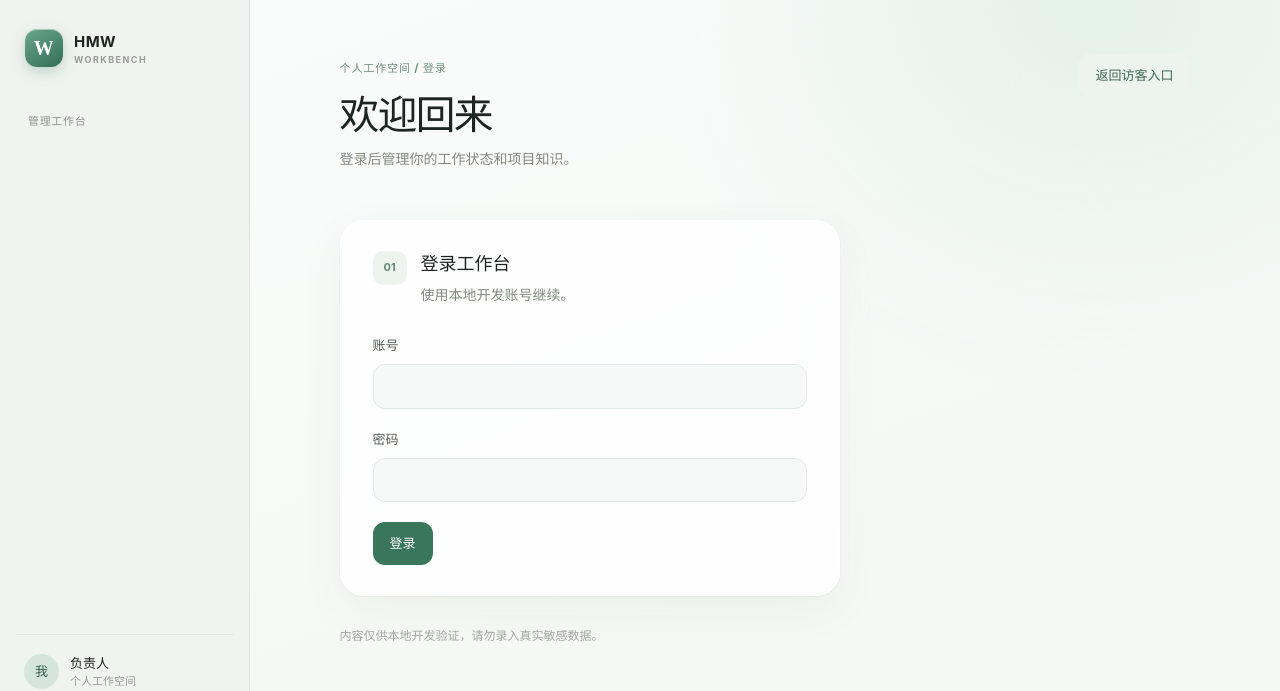
it: preserves sharing and allocations when editing a saved status
This screenshot has width=1280, height=691.
Step 1. Type "owner" into the field labelled "账号" → (590, 386), box [373,364,807,409]
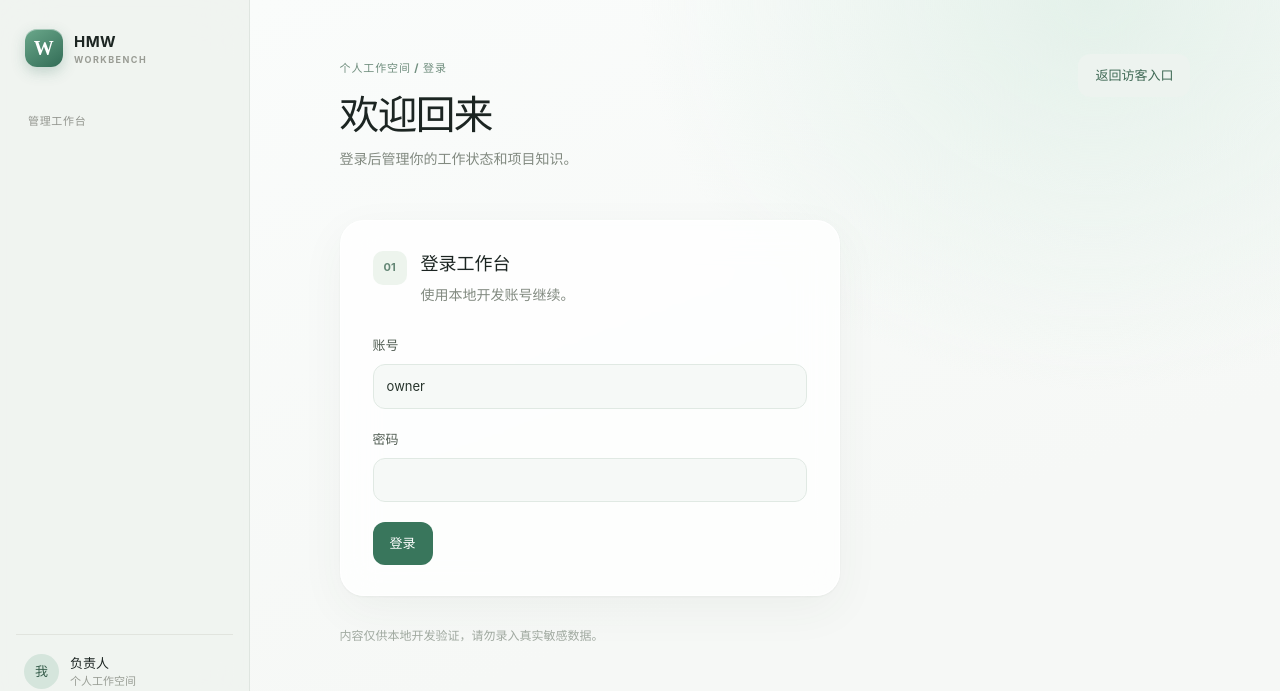
Step 2. Type "password" into the password field labelled "密码" → (590, 480), box [373,458,807,502]
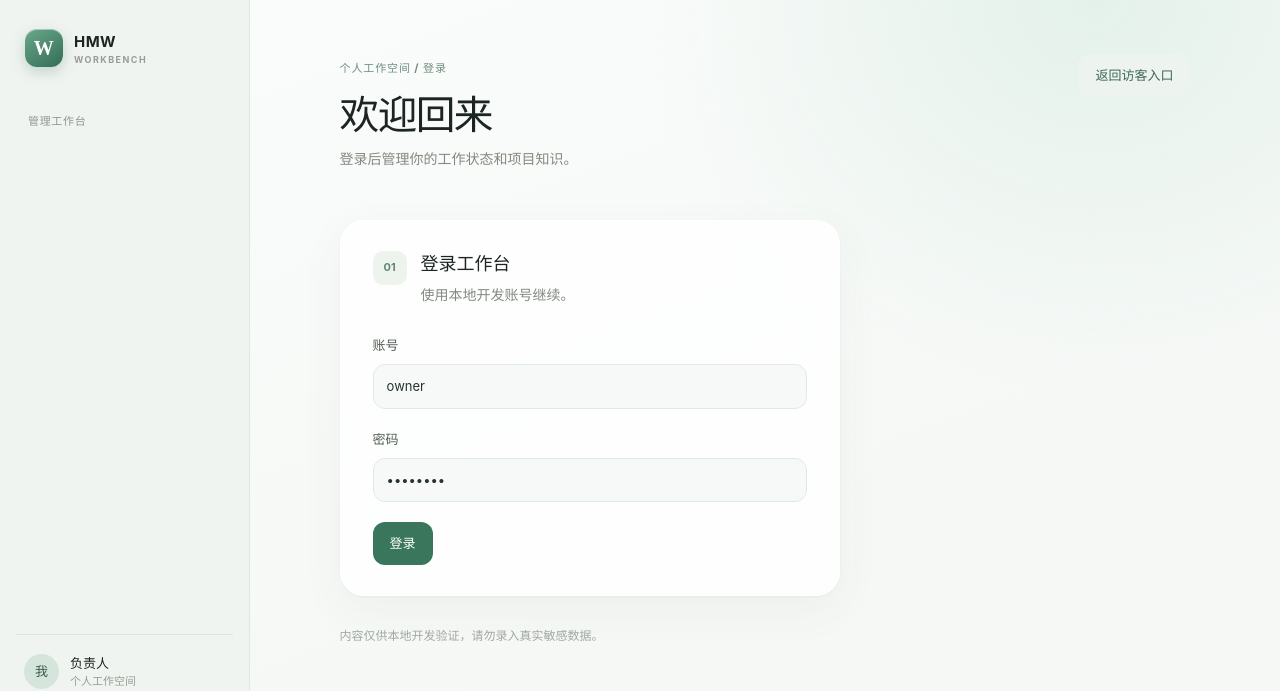
Step 3. Click the button "登录" → click(403, 544), box [373,522,433,565]
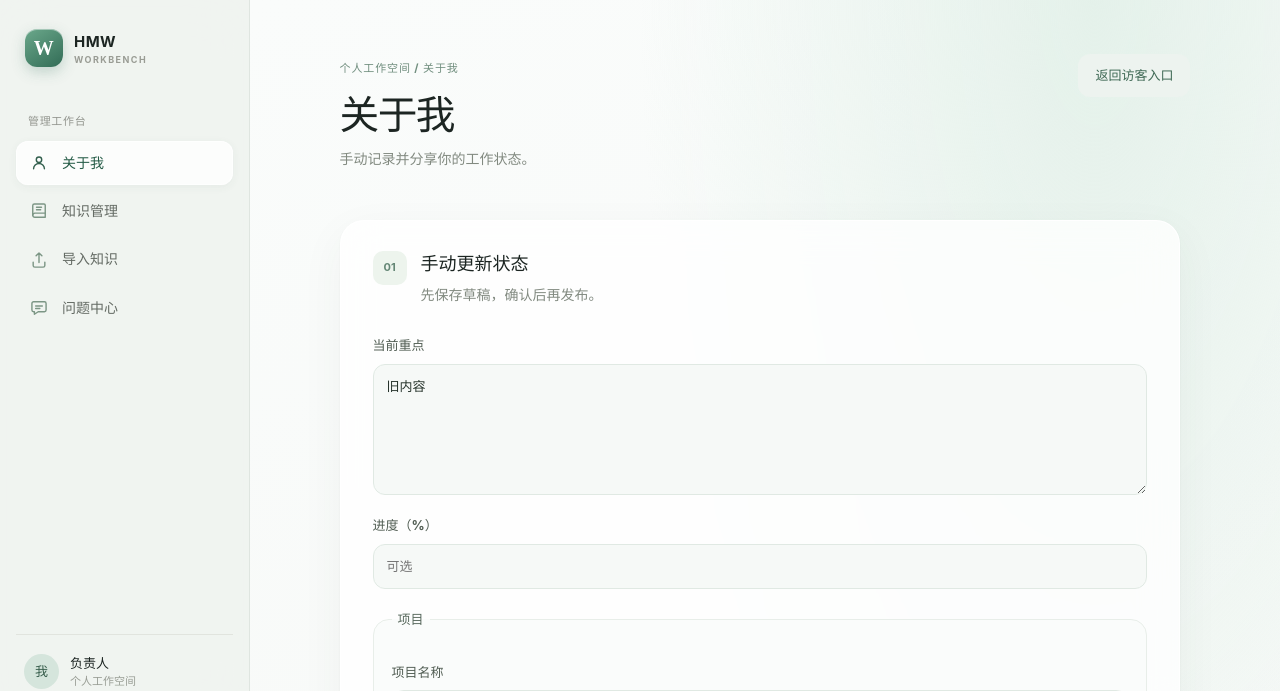
Expected: the text box labelled "当前重点" is shown
Step 4. Replace the text in the text box labelled "当前重点" with "新内容" → (760, 430), box [373,364,1147,495]
(page scrolled)
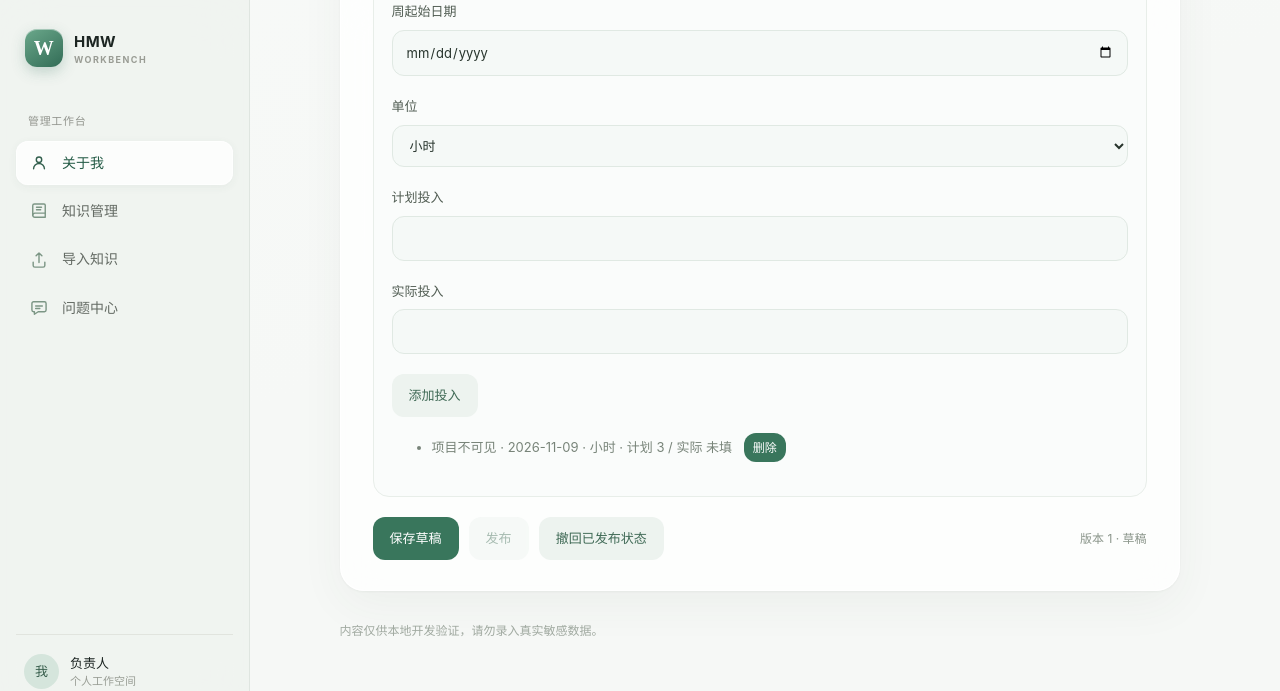
Step 5. Click the button "保存草稿" → click(416, 539), box [373,517,459,560]
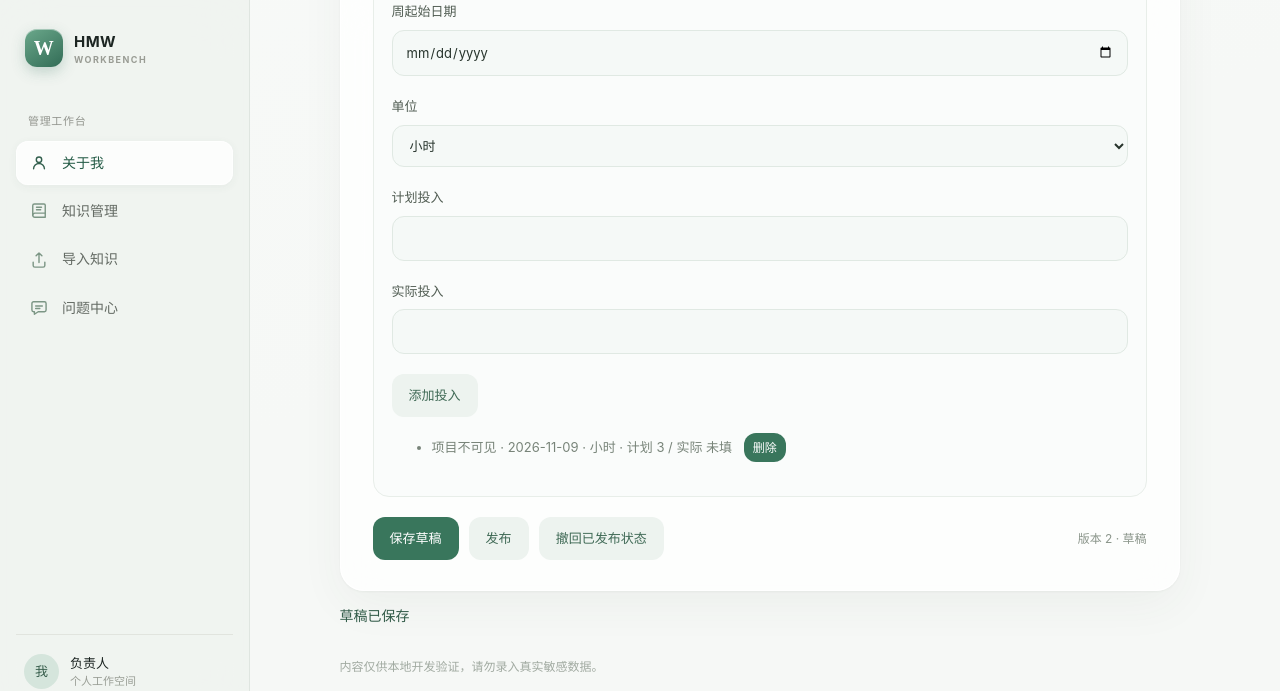
Expected: the text "草稿已保存" is shown, [340,607,410,624]
